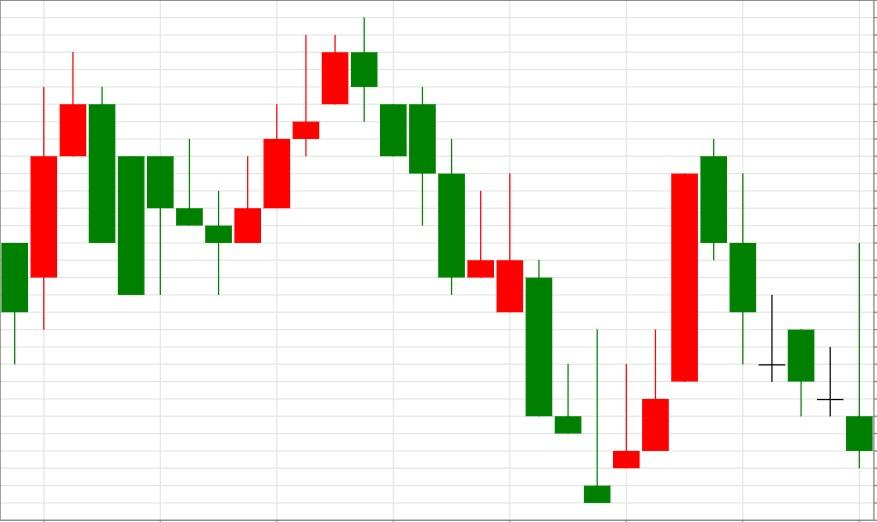inverse_hammer_rise: (350, 16, 612, 504)
three_white_soldiers_rise: (58, 34, 320, 296)
